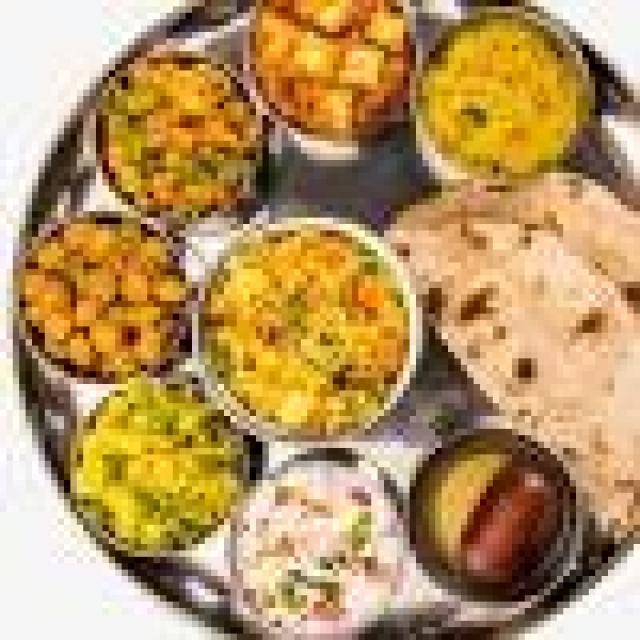dal: (202, 227, 414, 431), (404, 438, 565, 609), (415, 30, 586, 184)
roti: (431, 185, 622, 478)
sweet: (404, 441, 563, 600)
veg-fry: (229, 454, 397, 636), (94, 47, 256, 230)
